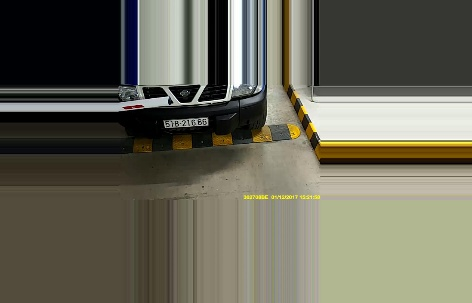plate: (160, 113, 211, 129)
